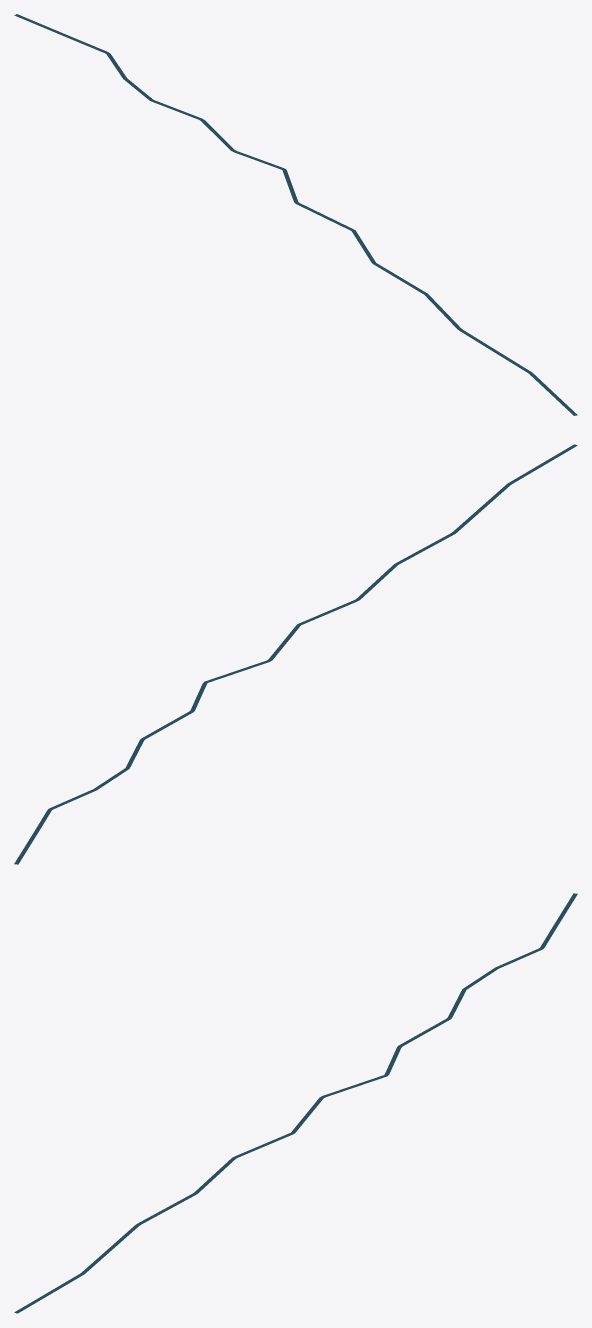
3 views of the same model, one above another, from view 1: azimuth 30°, elevation 25°; view 2: azimuth 150°, elevation 25°; view 3: azimuth 330°, elevation 25° (orthographic). The views are drawn at different scales.
Size of the model in its own units: 389 by 0 by 8006.
Materials: 1 (1 with a texture image).
